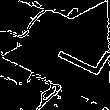L_NW: (39, 30, 107, 81)
